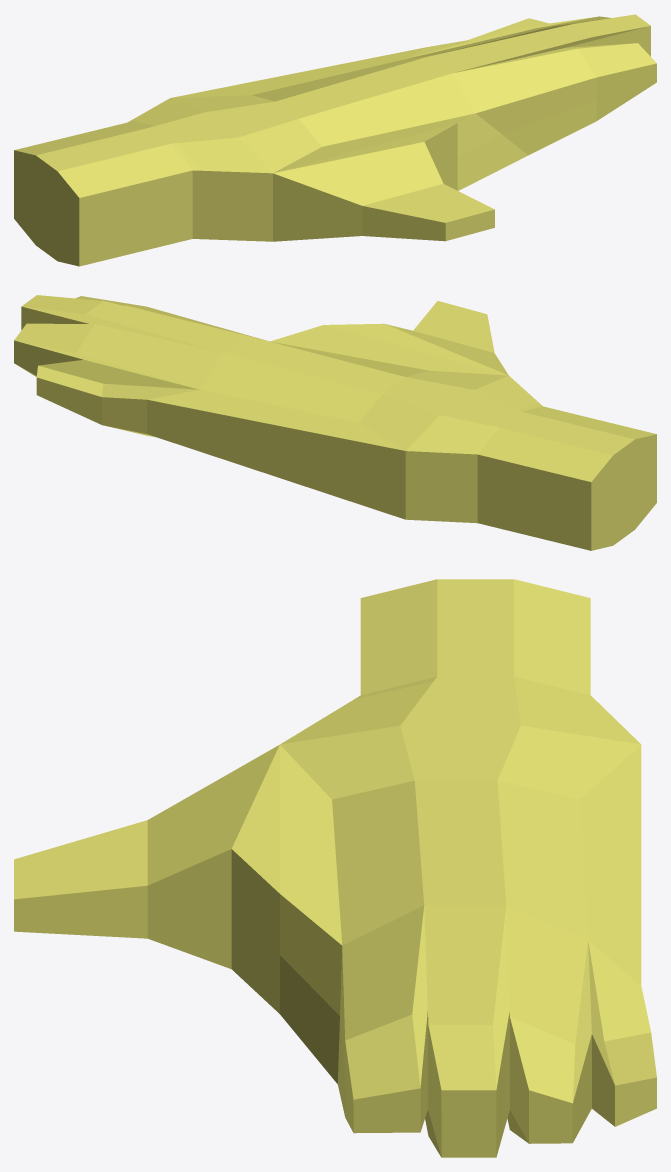
Rendered from handd.fbx.
The picture shows the model from 3 angles, top to bottom: view 1: azimuth 30°, elevation 25°; view 2: azimuth 150°, elevation 25°; view 3: azimuth 270°, elevation 25°; orthographic projection. The views are drawn at different scales.
Visible parts, largest first — view 1: Cube; view 2: Cube; view 3: Cube.
Part boxes in pixels (x1=…): Cube: x1=14, y1=14, x2=656, y2=266; Cube: x1=14, y1=295, x2=656, y2=550; Cube: x1=14, y1=579, x2=656, y2=1157.
Bounding box in the file's own units: 1050 × 162 × 559.
